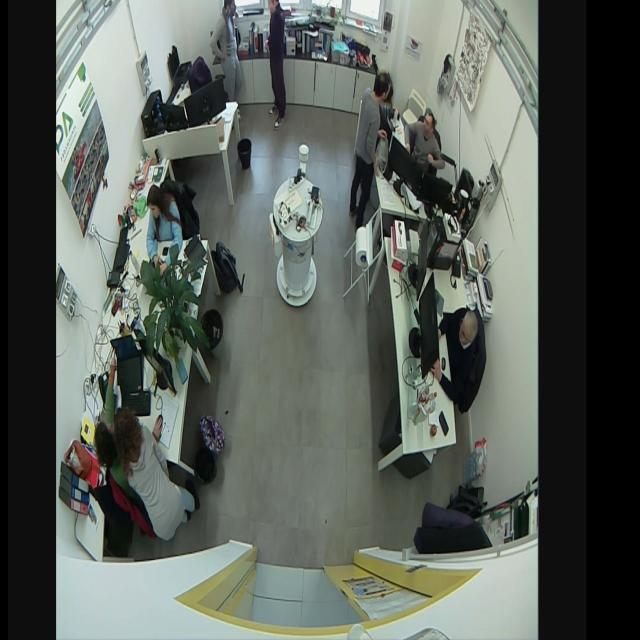Persona: (111, 401, 200, 545), (348, 69, 393, 230), (432, 300, 482, 407), (208, 0, 244, 103), (144, 180, 182, 276), (263, 0, 289, 132), (404, 111, 446, 178)
